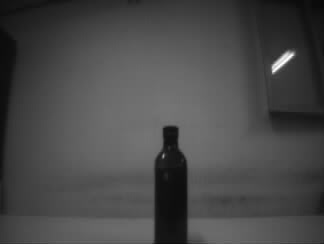Bottle: (152, 123, 187, 244)
